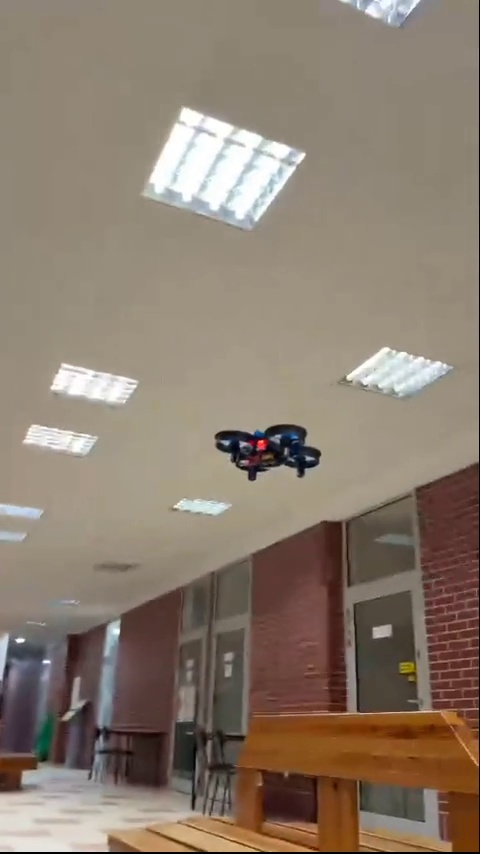drone: (218, 418, 324, 481)
